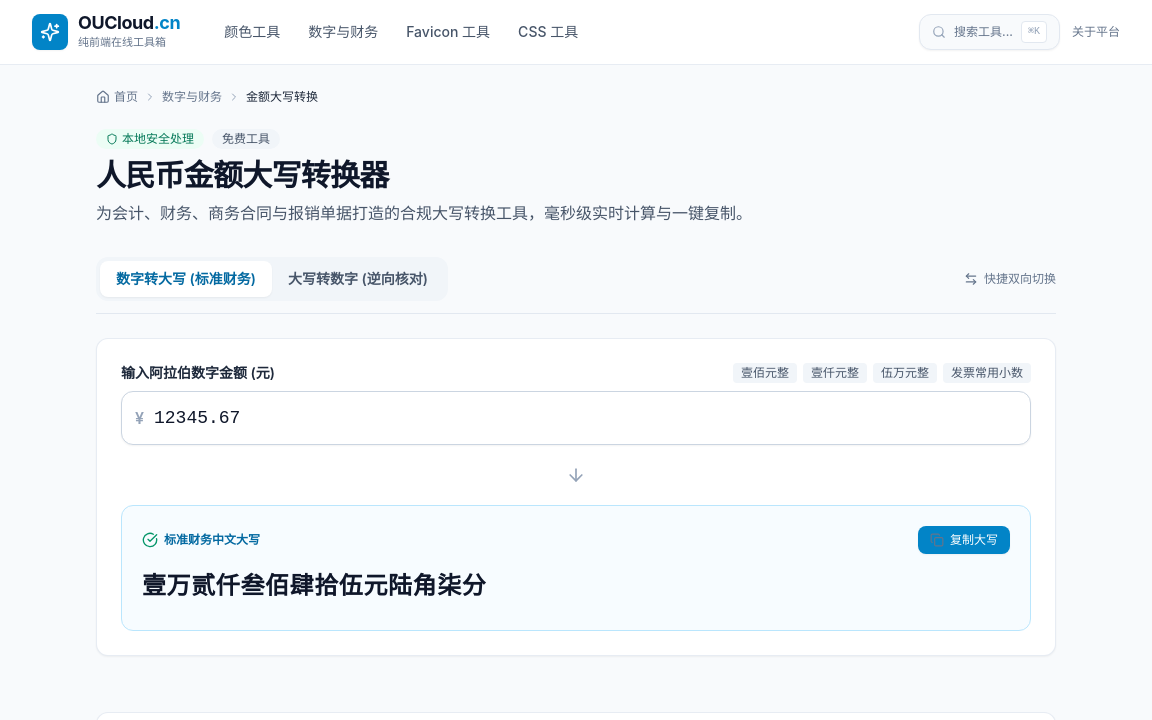
Test: 全站路由与端到端交互 › 工具页正常渲染 H1、输入框与实时转换
The width and height of the screenshot is (1152, 720).
Expected: the heading reads "人民币金额大写转换器", [96, 157, 388, 193]
Replace the text in the field labelled "输入阿拉伯数字金额 (元)" with "123.45" at x=576, y=418, box [121, 391, 1031, 445]
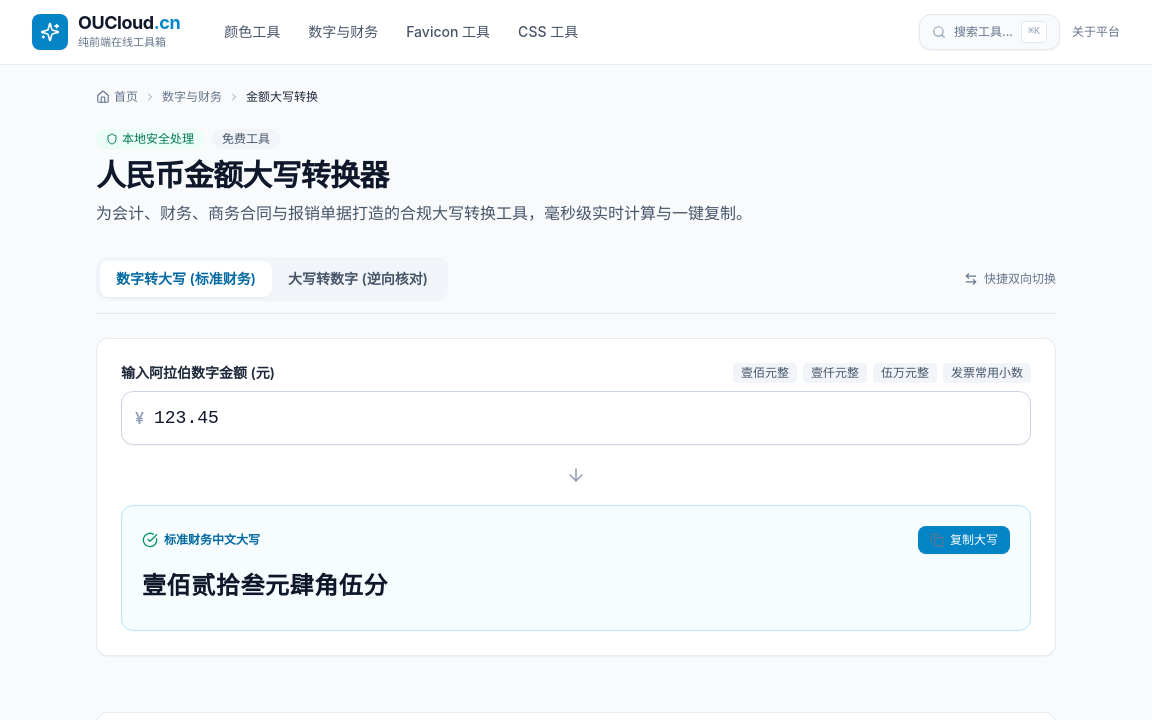
Now the text "壹佰贰拾叁元肆角伍分" is shown, box [142, 570, 388, 602]
